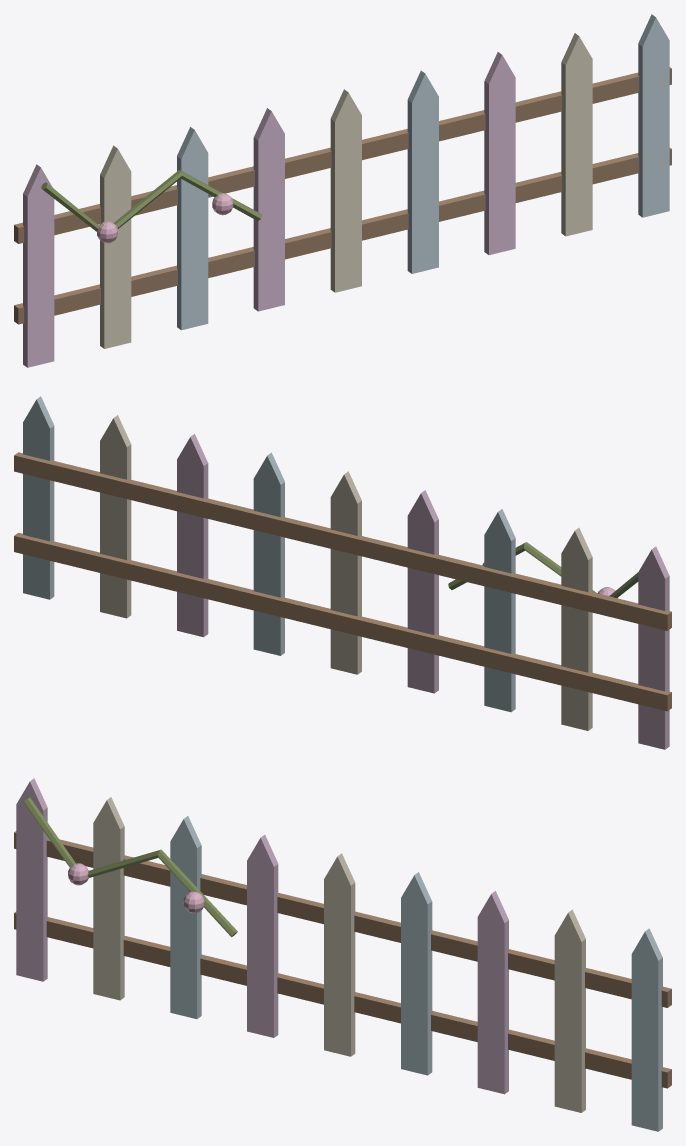
The model's file is PicketFence.fbx.
The picture shows the model from 3 angles, top to bottom: view 1: azimuth 30°, elevation 25°; view 2: azimuth 150°, elevation 25°; view 3: azimuth 330°, elevation 25°; orthographic projection.
Parts seen in each view (by area): view 1: Prop_PicketFence; view 2: Prop_PicketFence; view 3: Prop_PicketFence.
Part boxes in pixels (<box>): Prop_PicketFence: <box>14,14,671,367</box>; Prop_PicketFence: <box>14,396,671,749</box>; Prop_PicketFence: <box>14,778,671,1131</box>.
Bounding box in the file's own units: 3.4 × 0.98 × 0.1987.
